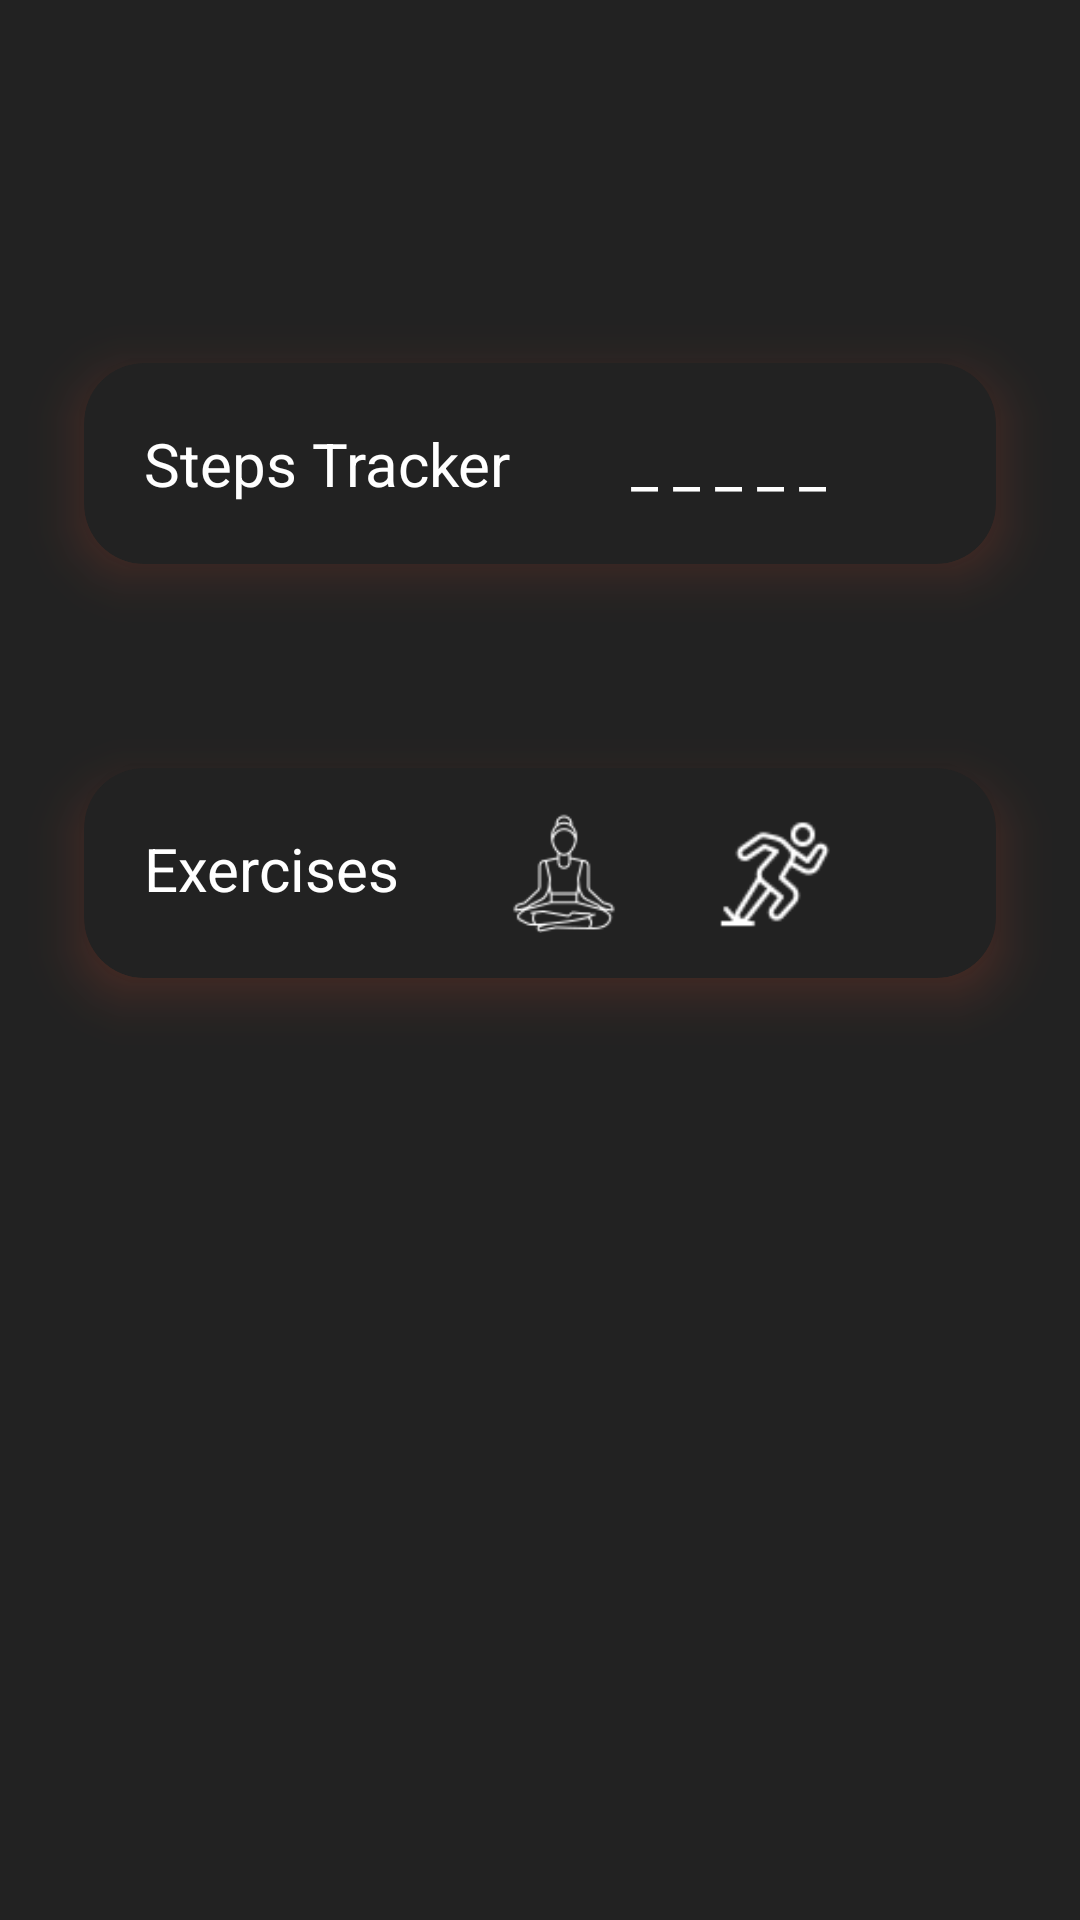

Icons on this 1080px x 1920px Android screen, each with its box as (left=x1, top=y1, right=x2, bottom=y2):
jogging: (left=720, top=822, right=830, bottom=927)
yoga: (left=513, top=814, right=615, bottom=933)
